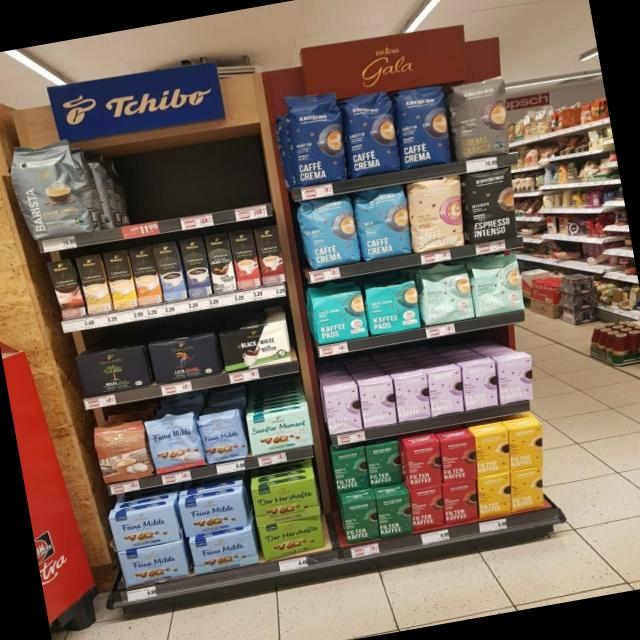BM Gemahlen: (73, 344, 152, 399)
BW Gemahlen: (217, 320, 296, 373)
Barista CC: (2, 132, 98, 244)
CC Vollmundig: (90, 418, 154, 486)
Empty Shelf: (88, 108, 271, 231)
FM 36 Pads: (144, 410, 206, 476)
FM Bohne: (196, 406, 250, 466)
FM Gemahlen: (107, 503, 182, 552), (116, 540, 190, 588), (188, 526, 261, 574), (178, 490, 250, 538)
Herzhatfe Mundig: (258, 513, 328, 561), (250, 478, 321, 525)
LG Gemahlen: (147, 331, 223, 386)
SM Gemahlen: (244, 404, 314, 456)
Simo CC Colombia: (46, 258, 84, 320)
Simo CCMild bigpack: (102, 247, 137, 310)
Simo CCVollmundig bigpack: (128, 242, 164, 306)
Simo Decaff: (74, 252, 112, 316)
Simo Es Brazil: (228, 228, 260, 289)
Simo Es Caramel: (252, 224, 286, 286)
Simo Es Elegant: (202, 231, 238, 294)
Simo Es Kraft: (179, 236, 212, 298)
Simo Es Vanilla: (152, 240, 188, 302)
